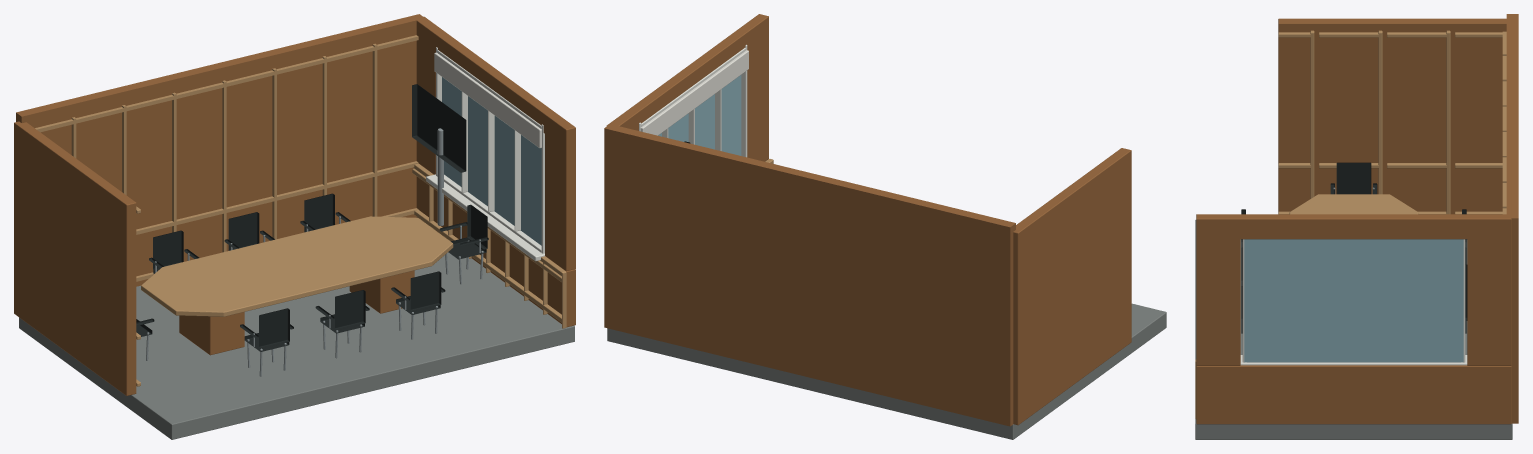
File: con-interior-bd4d067de12b.glb
3 renders of one model, left to right at view 1: azimuth 30°, elevation 25°; view 2: azimuth 150°, elevation 25°; view 3: azimuth 270°, elevation 25°, orthographic. The views are drawn at different scales.
Parts seen in each view (by area): view 1: CON.001; view 2: CON.001; view 3: CON.001.
Boxes of the visible parts, x1,y1,x2,y2 form: CON.001: (14,14,575,439); CON.001: (604,14,1166,439); CON.001: (1195,14,1518,439).
Size of the model in its own units: 6.5 by 3.24 by 4.28.
